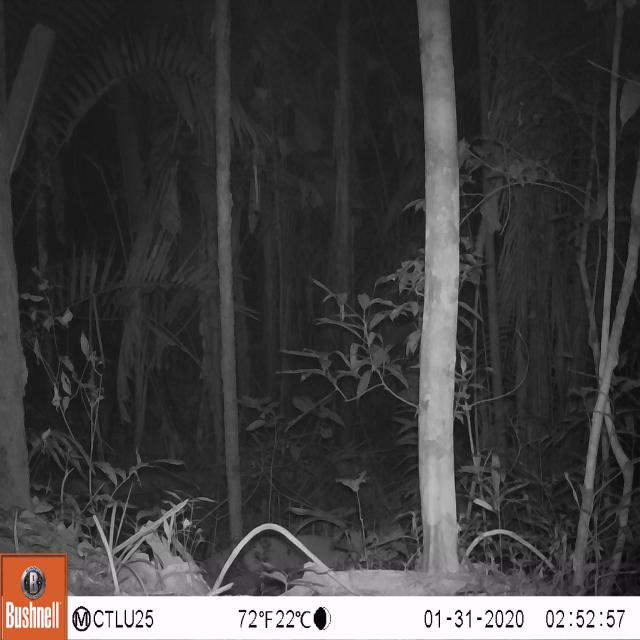Lowland Tapir: (68, 331, 191, 457)
